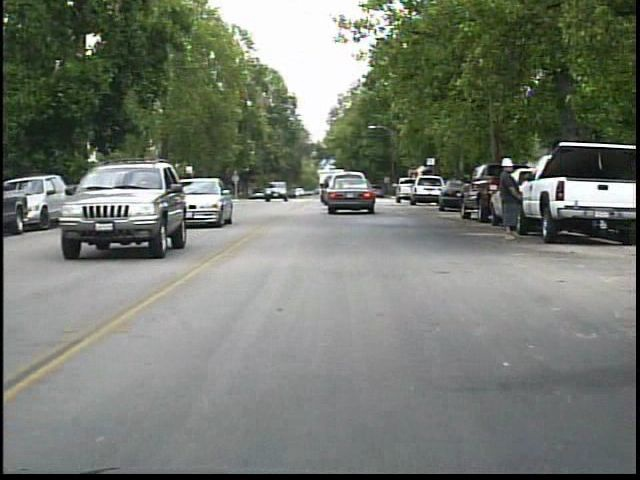person: (494, 154, 526, 242)
